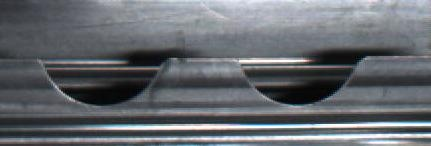twou: (38, 47, 360, 114)
